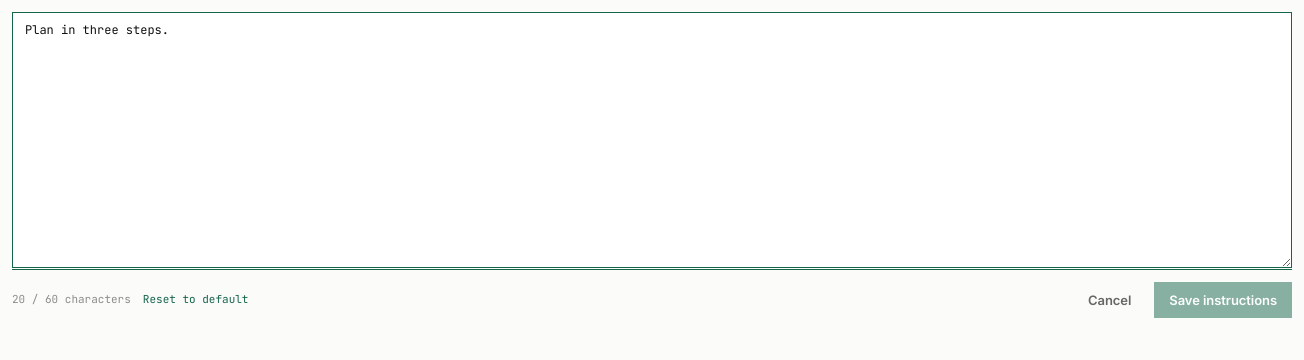
Test: saving › never saves a blank prompt, and says what to use instead ()
The image size is (1304, 360).
Clear the text box named "Instructions for Planner" at [652, 140], box [12,12,1292,268]
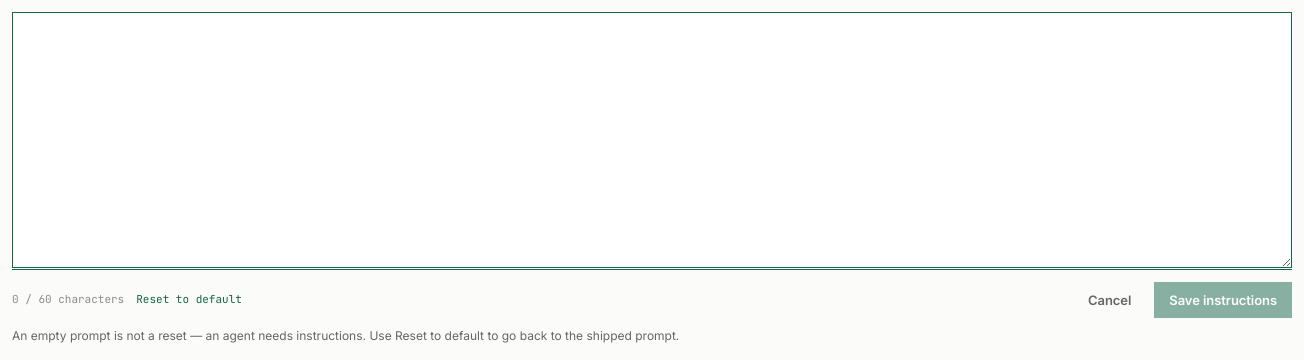
Expected: the button "Save instructions" is disabled, [1154,282,1292,318]
Expected: the text "An empty prompt is not a reset" shows "Reset to default", [369,328,679,343]
